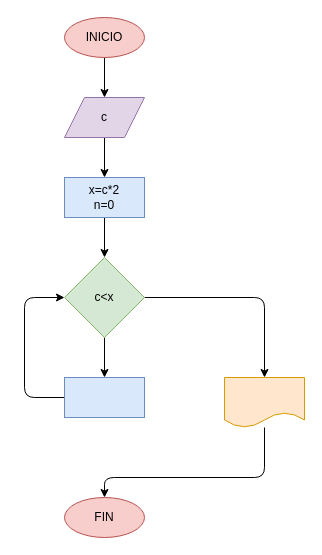
Image size: 322x555. Some labels were removed from this diagram. Here are the shapes that lost their labels. From the top down, the centre of each, then its label:
At [104,397]: "c=1.05*c n=n+1".
At [264,402]: "n c".
